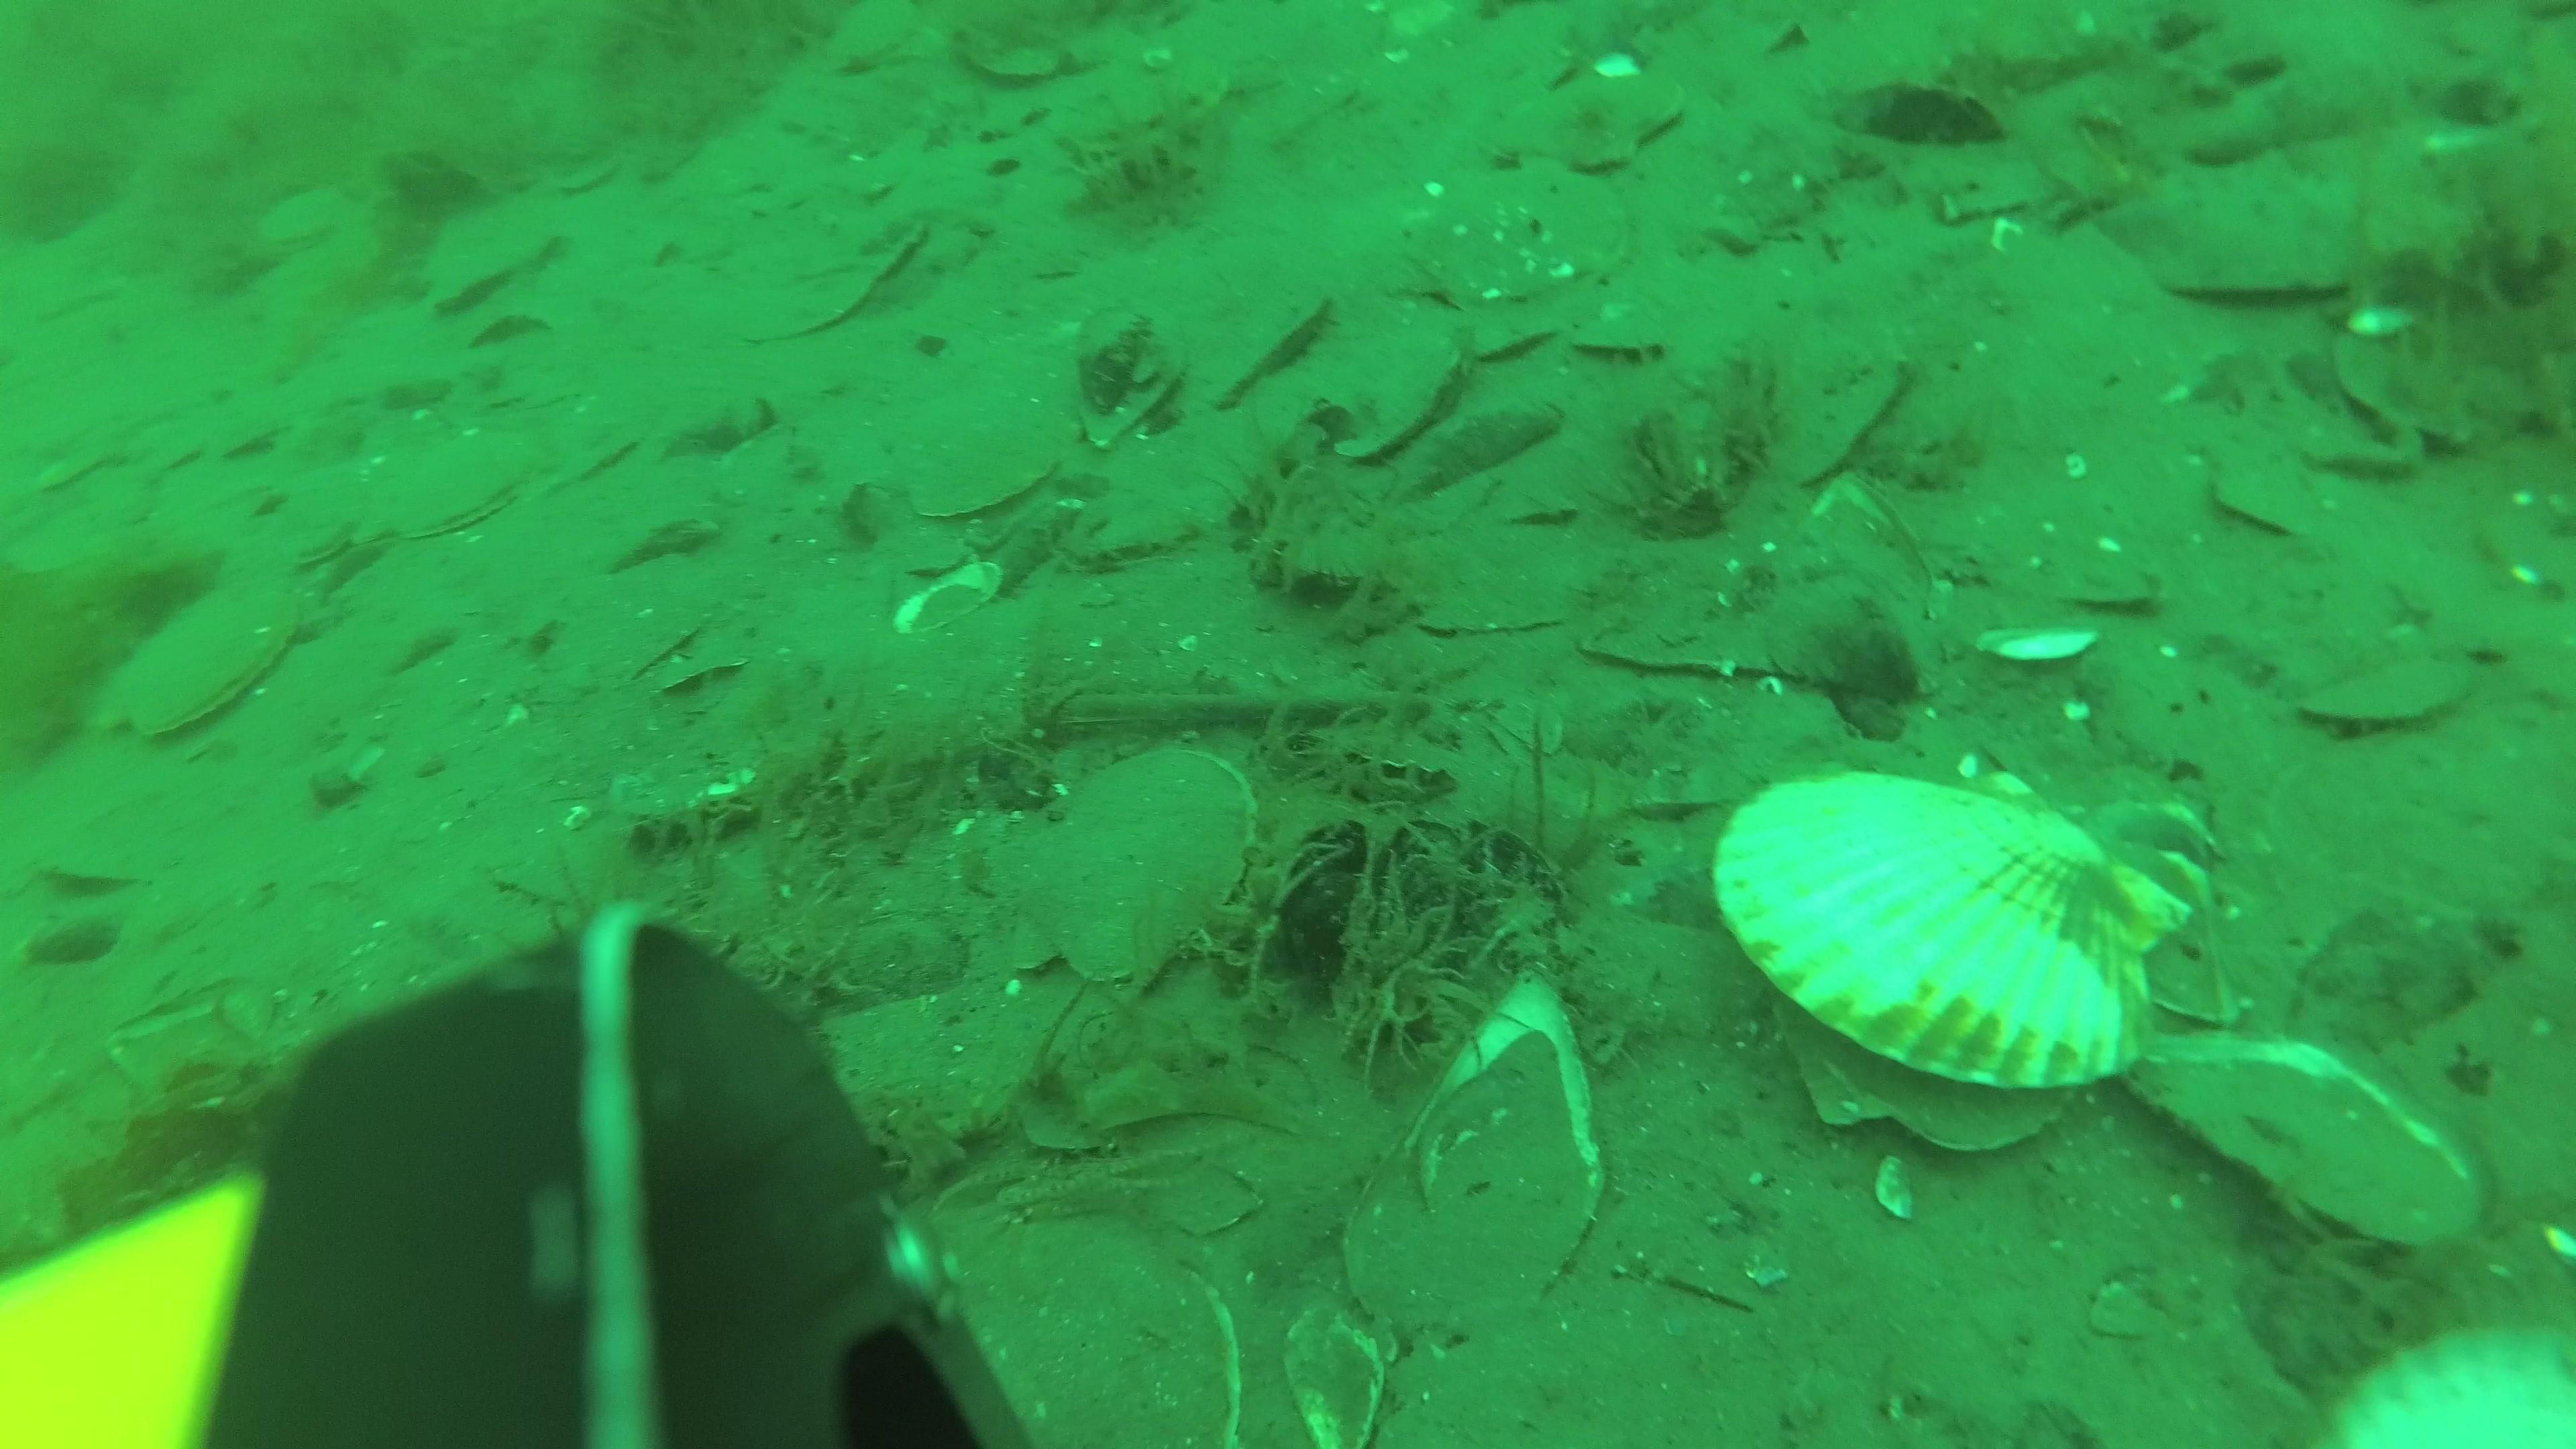scallop: (1723, 755, 2201, 1178), (984, 761, 1263, 994), (1407, 177, 1640, 315), (110, 591, 299, 752), (881, 395, 1090, 527), (1509, 74, 1683, 198), (1322, 324, 1465, 467), (2302, 639, 2488, 736), (366, 430, 531, 538), (1198, 290, 1338, 402), (430, 219, 557, 320), (267, 483, 361, 564), (1578, 308, 1679, 357), (1479, 301, 1557, 361)
